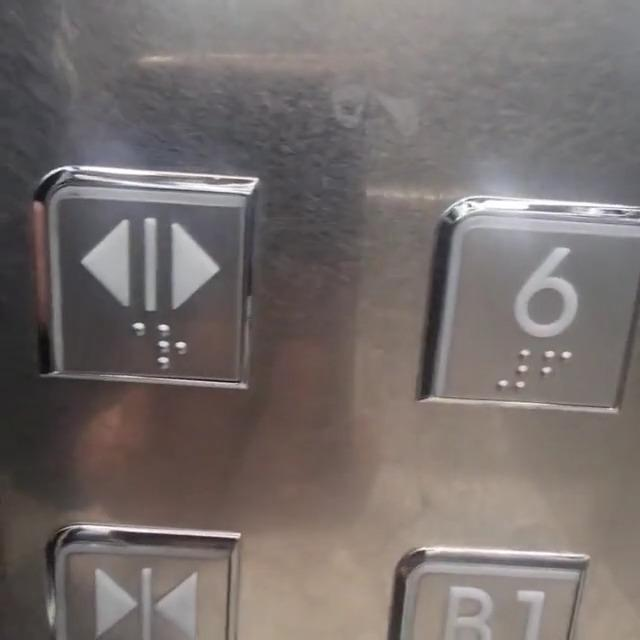button: (50, 169, 254, 373), (452, 200, 629, 412), (56, 518, 239, 640), (395, 545, 585, 640)
